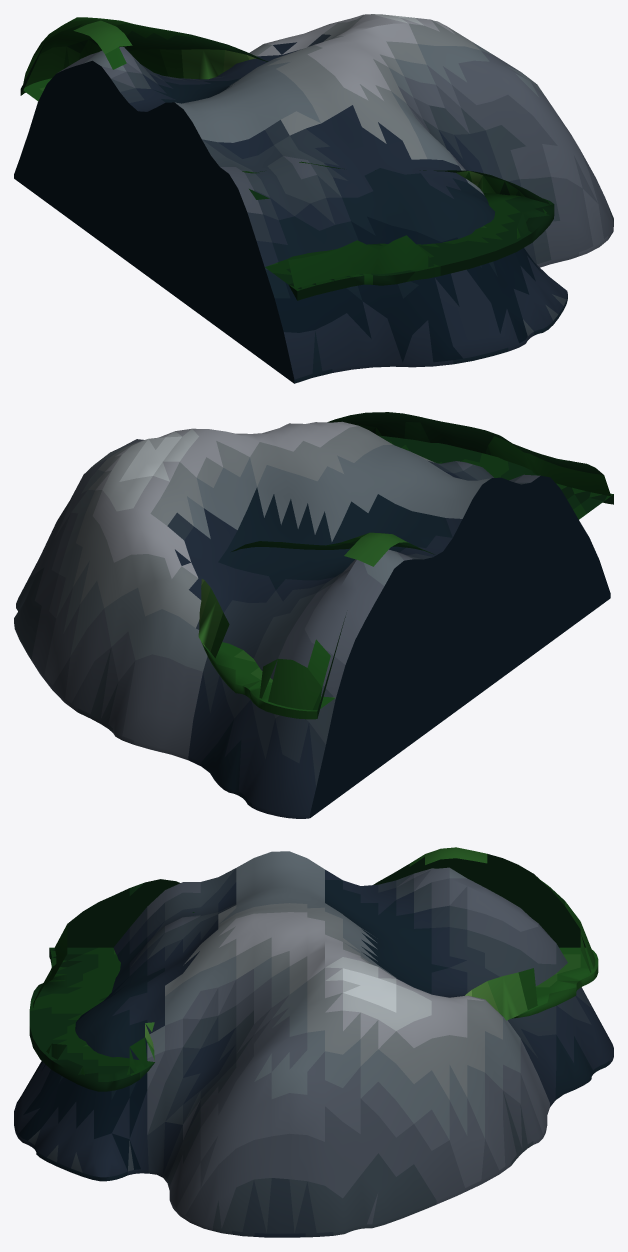
Rendered from torm_beetle_seg1_r.glb.
3 renders of one model, top to bottom at view 1: azimuth 30°, elevation 25°; view 2: azimuth 150°, elevation 25°; view 3: azimuth 270°, elevation 25°, orthographic. The views are drawn at different scales.
Parts seen in each view (by area): view 1: torm_beetle_seg1_r_seg1_plate, torm_beetle_seg1_r_seg1_shell; view 2: torm_beetle_seg1_r_seg1_plate, torm_beetle_seg1_r_seg1_shell; view 3: torm_beetle_seg1_r_seg1_plate, torm_beetle_seg1_r_seg1_shell.
Boxes of the visible parts, x1,y1,x2,y2 form: torm_beetle_seg1_r_seg1_plate: [14, 14, 613, 383]; torm_beetle_seg1_r_seg1_shell: [20, 17, 554, 300]; torm_beetle_seg1_r_seg1_plate: [14, 421, 610, 818]; torm_beetle_seg1_r_seg1_shell: [198, 412, 613, 719]; torm_beetle_seg1_r_seg1_plate: [14, 851, 613, 1237]; torm_beetle_seg1_r_seg1_shell: [29, 847, 598, 1091].
Size of the model in its own units: 21 by 9.87 by 27.
